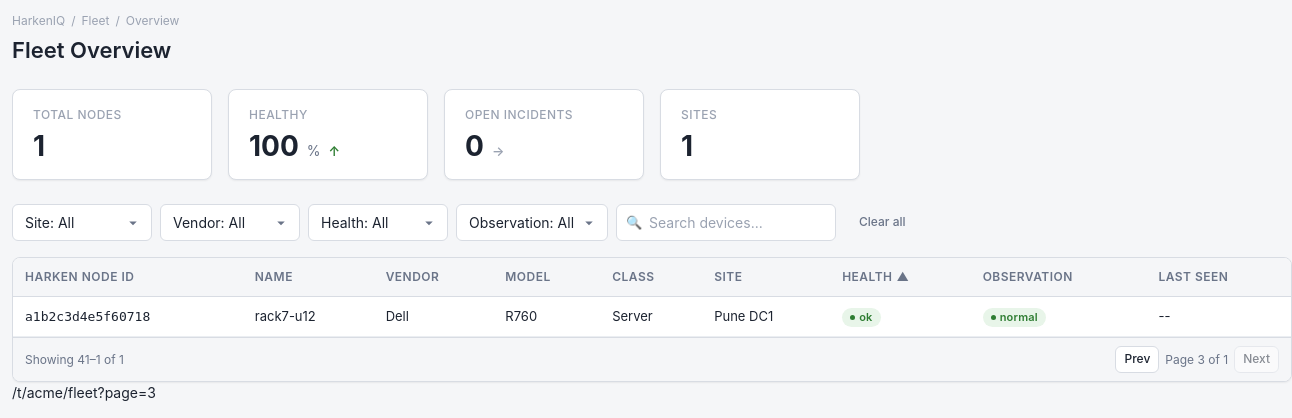
Test: filters and page are the query string › changing a filter returns to page one and drops it from the URL
This screenshot has width=1292, height=418.
Expected: the text "a1b2c3d4e5f60718" is shown, x1=25 y1=309 x2=150 y2=324
Select "HPE" in the dropdown named "Vendor" at point(230, 223), box x1=160 y1=204 x2=300 y2=241
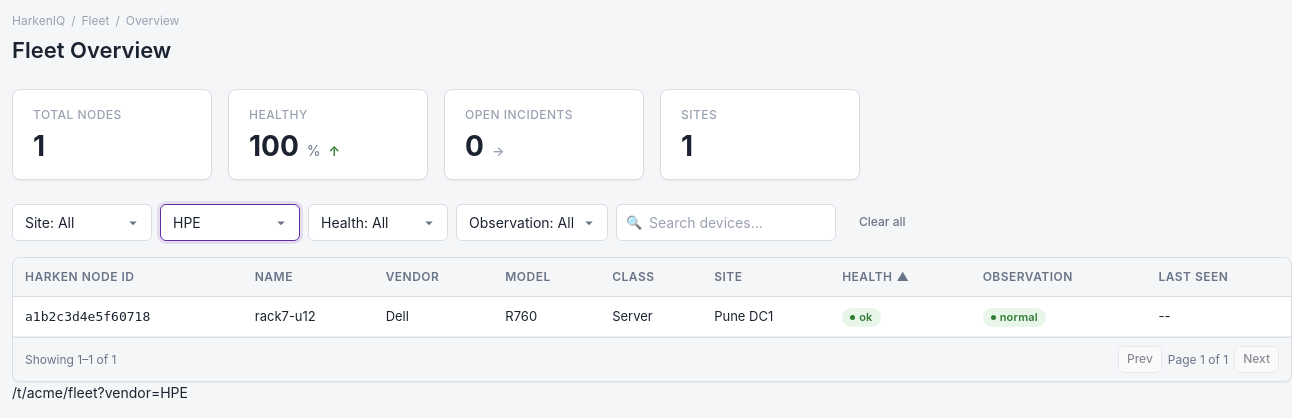
Expected: the text with test id "location" reads "/t/acme/fleet?vendor=HPE", x1=12 y1=384 x2=188 y2=401
